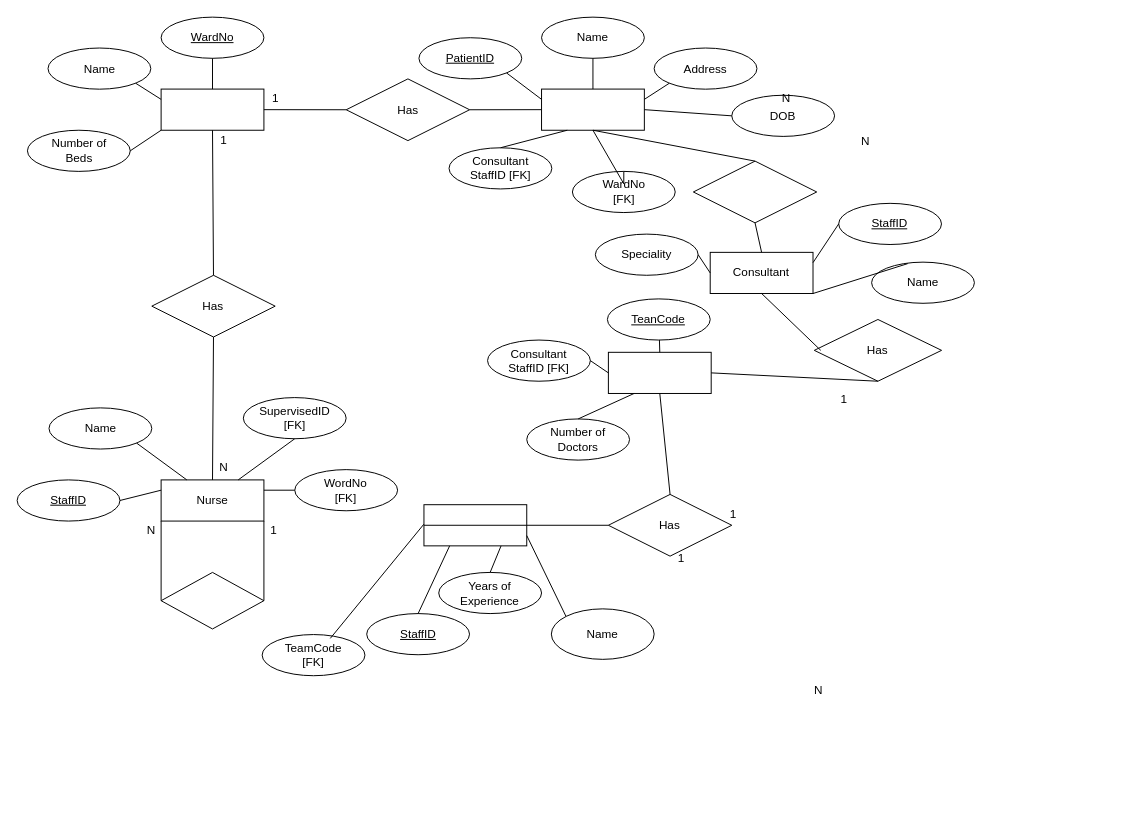
The diagram is 1129 pixels wide and 826 high, and some of its shapes have lost their labels. Here are the shapes that lost their labels. From the top down, the centre of each, then its label:
At point 212,109: "Ward".
At point 592,109: "Patient".
At point 754,191: "Admits".
At point 659,372: "Team".
At point 475,525: "Junior Doctor".
At point 212,600: "Supervises".
